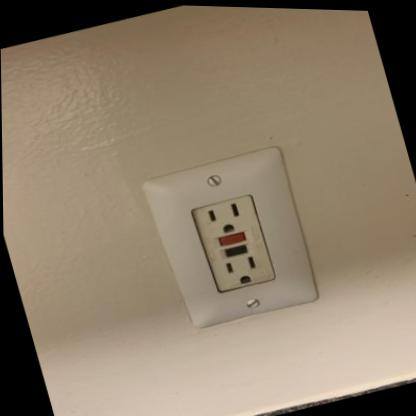OUTLET: (149, 139, 324, 333)
